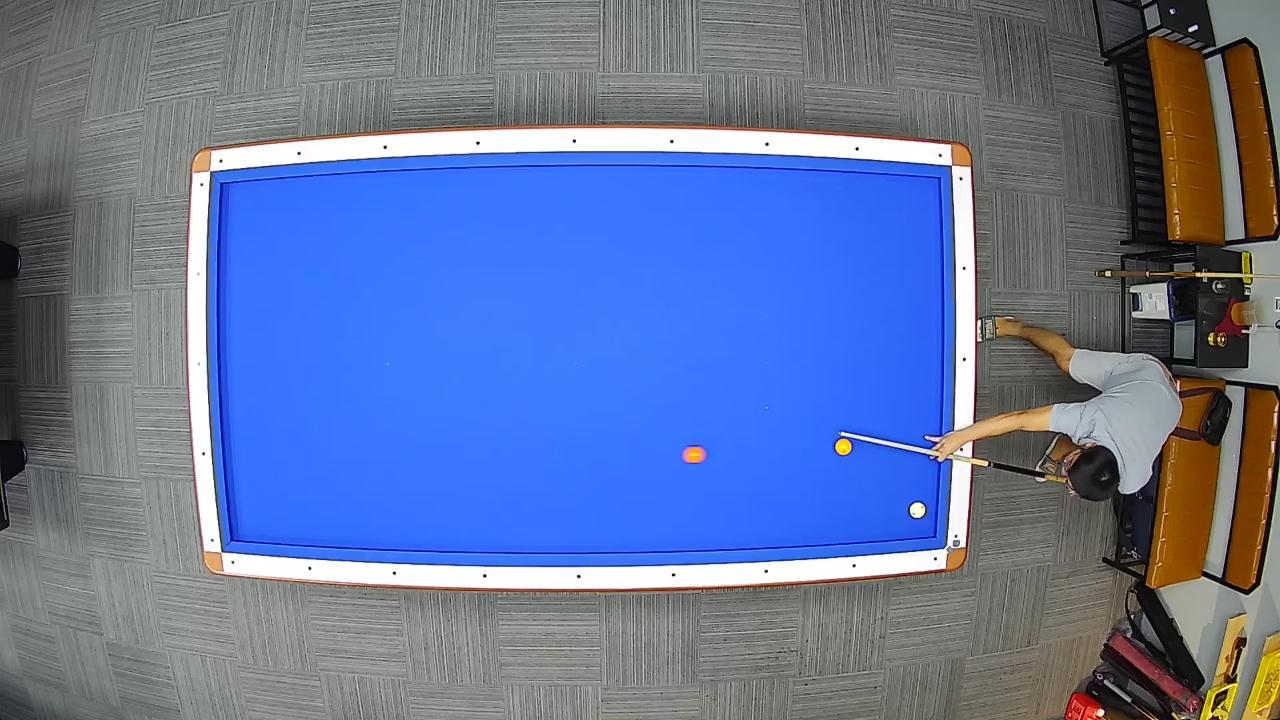Orange: (680, 444, 709, 465)
White: (908, 499, 928, 520)
Yellow: (833, 437, 853, 457)
